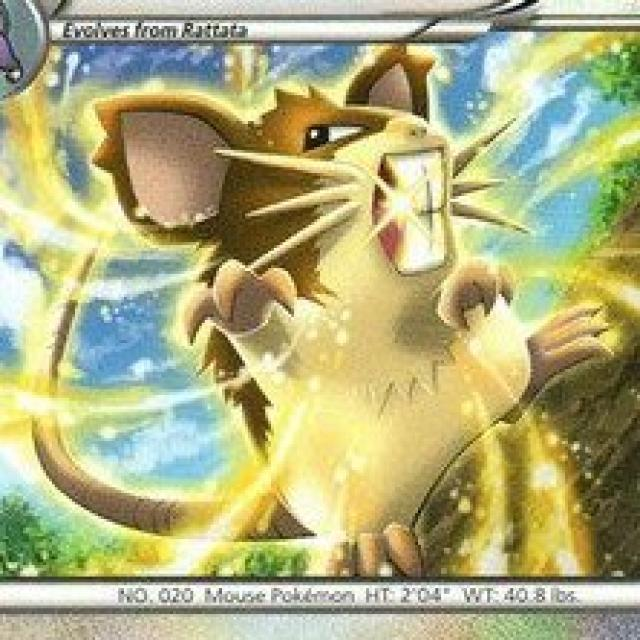Raticate: (130, 64, 522, 538)
